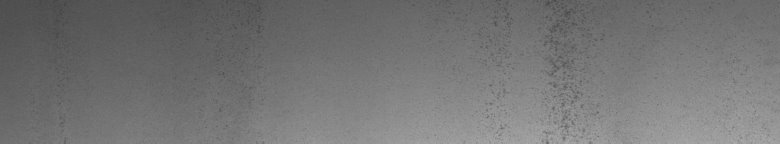ib: (448, 4, 603, 136)
